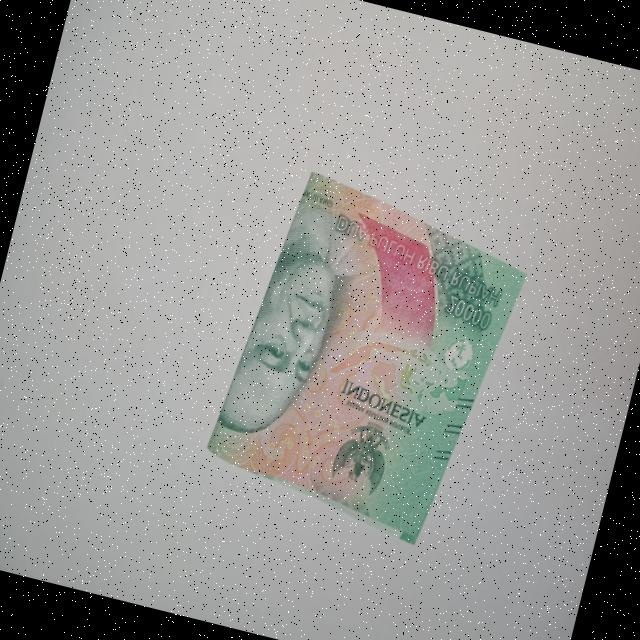20K: (200, 156, 545, 560)
